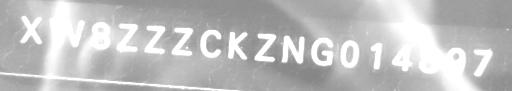letter: (48, 13, 84, 48), (16, 11, 42, 46), (113, 19, 137, 56), (142, 21, 166, 58), (170, 24, 194, 59), (281, 31, 305, 66), (226, 29, 248, 66), (254, 29, 276, 66), (310, 35, 334, 68), (470, 45, 494, 78), (199, 26, 221, 61), (391, 41, 413, 76), (443, 45, 467, 76), (90, 19, 112, 52), (417, 43, 439, 74), (338, 39, 360, 68), (368, 40, 386, 71)
